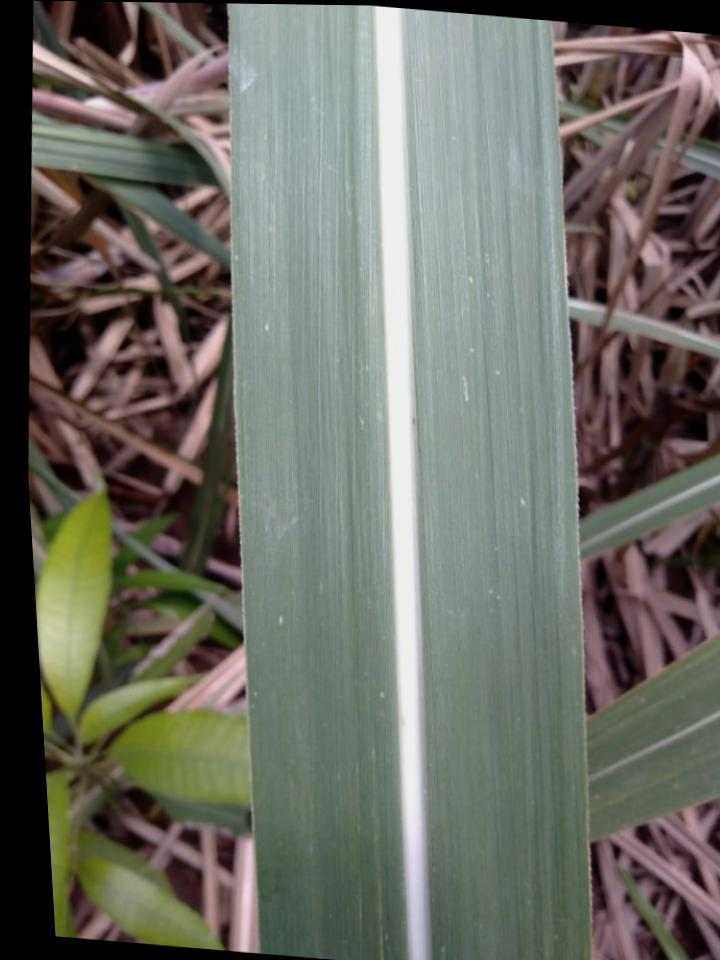Healthy: (227, 3, 592, 960)
